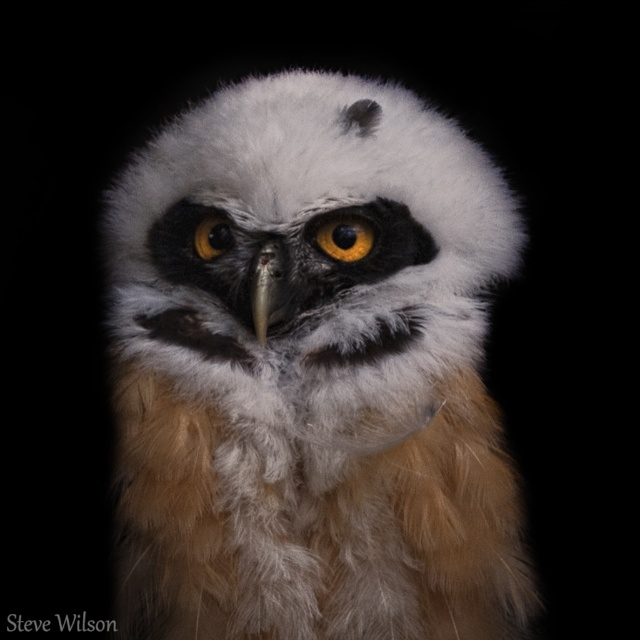Owl: (105, 65, 544, 639)
